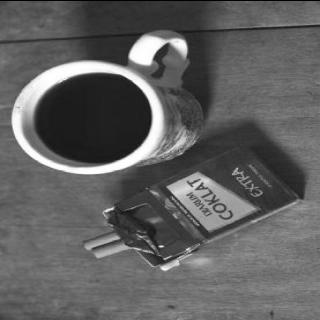objects: (83, 144, 302, 270)
